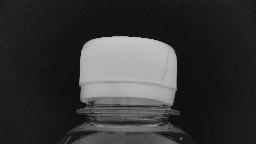Broken Cap: (72, 34, 184, 120)
